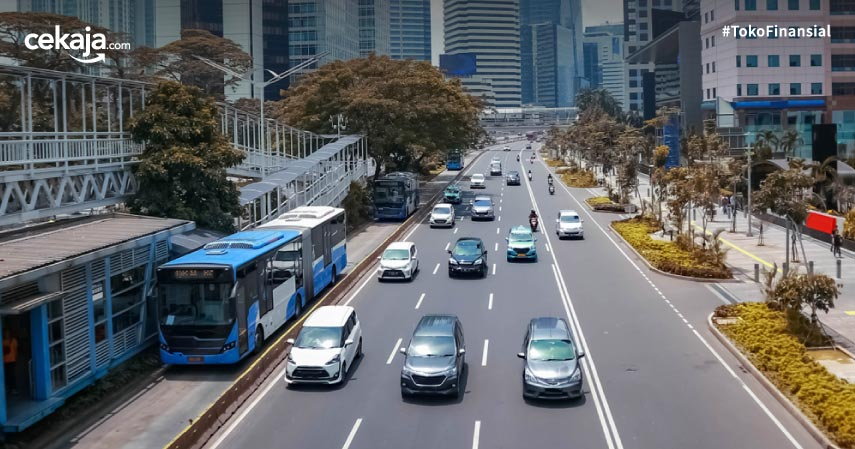car: (157, 201, 350, 367), (286, 306, 361, 388), (401, 315, 467, 402), (523, 318, 586, 405), (374, 173, 419, 222), (377, 242, 419, 283), (450, 240, 488, 277), (507, 226, 539, 265), (557, 210, 582, 241), (471, 194, 495, 222), (431, 204, 455, 231), (446, 144, 465, 173), (445, 186, 461, 207), (469, 173, 485, 189), (506, 170, 521, 187), (490, 161, 502, 175)
motorbike: (529, 209, 538, 232), (548, 182, 555, 196), (547, 174, 554, 187), (528, 170, 532, 181)
